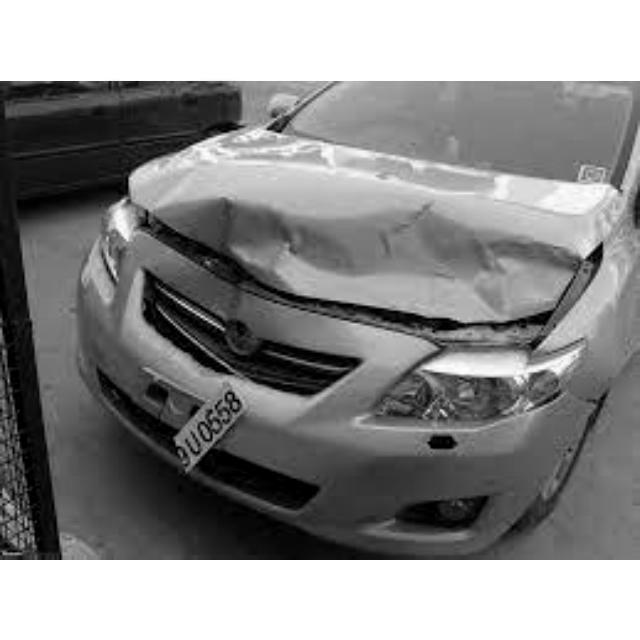Headlight-damage: (366, 340, 580, 431)
bonnet-dent: (132, 134, 611, 302)
